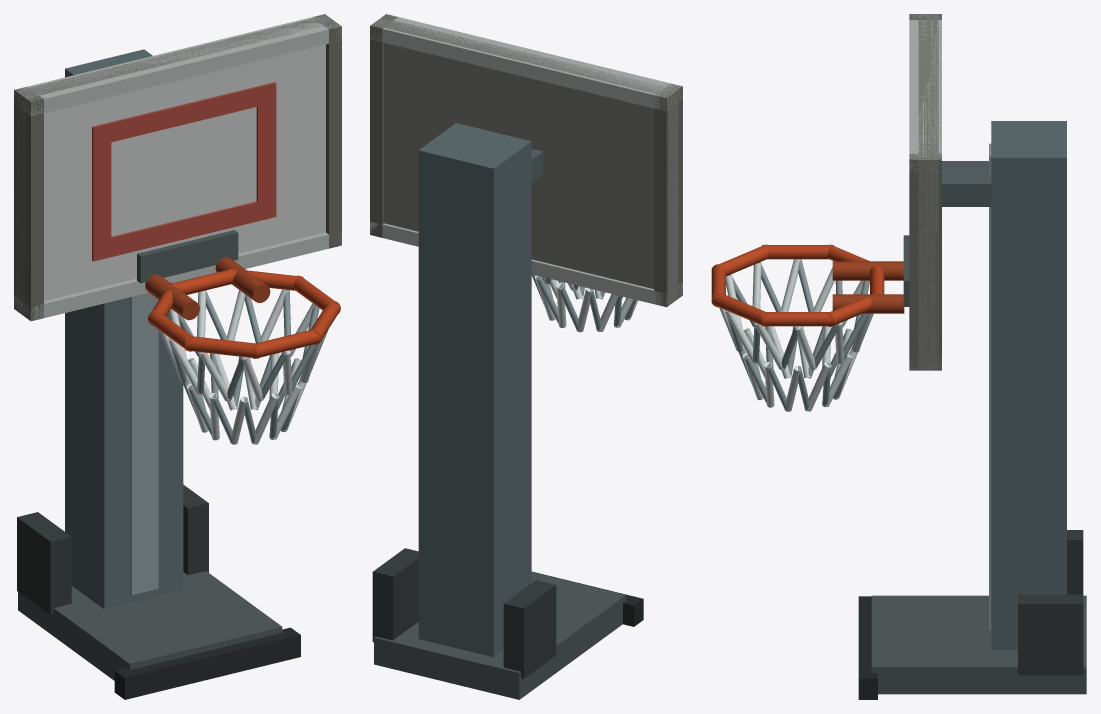
Rendered from CMU3DBasketballHoopAltCloudSouth.glb.
The picture shows the model from 3 angles, left to right: view 1: azimuth 30°, elevation 25°; view 2: azimuth 150°, elevation 25°; view 3: azimuth 270°, elevation 25°; orthographic projection. The views are drawn at different scales.
Parts seen in each view (by area): view 1: backboard white front, upright square metal column, weighted rectangular stand foot, backboard top bottom border (×2), backboard side border (×2), column central highlight, red target square horizontal (×2), raised stand rear support (×2), backboard rigid backing, base front dark skirt, red target square side (×2), hoop mounting plate (+9 smaller); view 2: upright square metal column, backboard rigid backing, backboard top bottom border (×2), weighted rectangular stand foot, raised stand rear support (×2), backboard side border (×2), base front dark skirt; view 3: upright square metal column, weighted rectangular stand foot, backboard rigid backing, raised stand rear support (×2), backboard side border, backboard top bottom border, board offset mounting arm, base front dark skirt, column central highlight, rim back mounting brace, rim back mounting brace right, separate orange circular hoop segment 01 (+4 smaller).
Boxes of the visible parts, left/top/right/bottom form: backboard white front: left=44, top=44, right=325, bottom=300; upright square metal column: left=65, top=49, right=183, bottom=609; weighted rectangular stand foot: left=18, top=571, right=282, bottom=680; backboard top bottom border (×2): left=14, top=14, right=341, bottom=320; backboard side border (×2): left=14, top=14, right=341, bottom=321; column central highlight: left=130, top=292, right=158, bottom=595; red target square horizontal (×2): left=92, top=82, right=276, bottom=260; raised stand rear support (×2): left=17, top=484, right=208, bottom=615; backboard rigid backing: left=15, top=15, right=335, bottom=317; base front dark skirt: left=114, top=627, right=300, bottom=699; red target square side (×2): left=92, top=82, right=276, bottom=261; hoop mounting plate: left=137, top=230, right=238, bottom=283; upright square metal column: left=418, top=123, right=531, bottom=657; backboard rigid backing: left=372, top=17, right=678, bottom=305; backboard top bottom border (×2): left=370, top=15, right=682, bottom=306; weighted rectangular stand foot: left=374, top=572, right=625, bottom=699; raised stand rear support (×2): left=372, top=548, right=556, bottom=678; backboard side border (×2): left=370, top=14, right=682, bottom=307; base front dark skirt: left=532, top=571, right=643, bottom=626; upright square metal column: left=991, top=121, right=1066, bottom=649; weighted rectangular stand foot: left=871, top=595, right=1086, bottom=694; backboard rigid backing: left=918, top=14, right=938, bottom=370; raised stand rear support (×2): left=1018, top=530, right=1083, bottom=675; backboard side border: left=909, top=153, right=941, bottom=370; backboard top bottom border: left=909, top=14, right=941, bottom=172; board offset mounting arm: left=942, top=161, right=991, bottom=206; base front dark skirt: left=858, top=596, right=877, bottom=699; column central highlight: left=989, top=143, right=991, bottom=629; rim back mounting brace: left=832, top=261, right=903, bottom=280; rim back mounting brace right: left=832, top=294, right=904, bottom=313; separate orange circular hoop segment 01: left=762, top=312, right=833, bottom=326.
Bounding box in the file's own units: 0.53 × 0.969 × 0.576.
